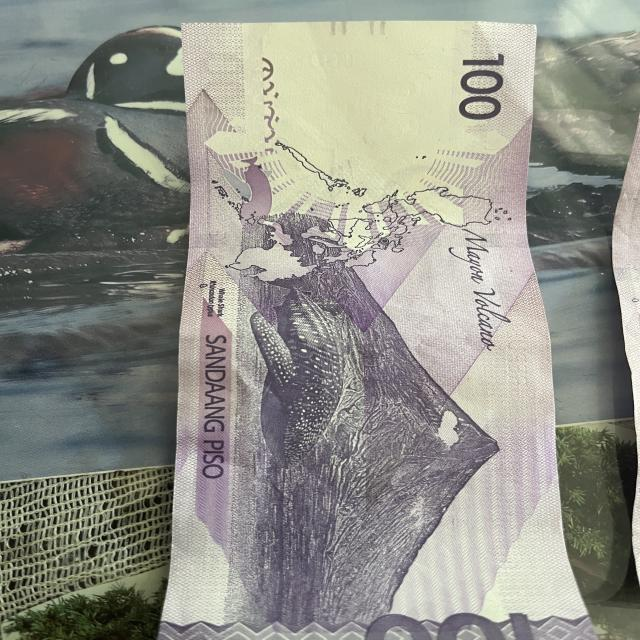100_whale: (235, 261, 345, 475)
100_whale_watermark: (198, 147, 281, 240)
watermark: (251, 32, 500, 170)
